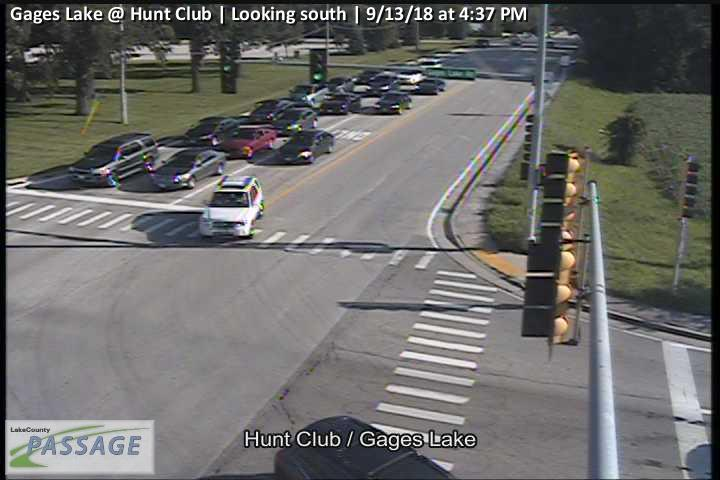SUV: (68, 131, 159, 186), (199, 176, 264, 238), (184, 116, 240, 147), (289, 83, 329, 106), (366, 76, 401, 93), (358, 69, 384, 83), (401, 70, 422, 84)
Sedan: (152, 147, 227, 189), (277, 128, 335, 163), (222, 124, 276, 160), (250, 98, 303, 125), (274, 107, 318, 135), (375, 91, 411, 114), (322, 92, 361, 113), (416, 78, 445, 95)
